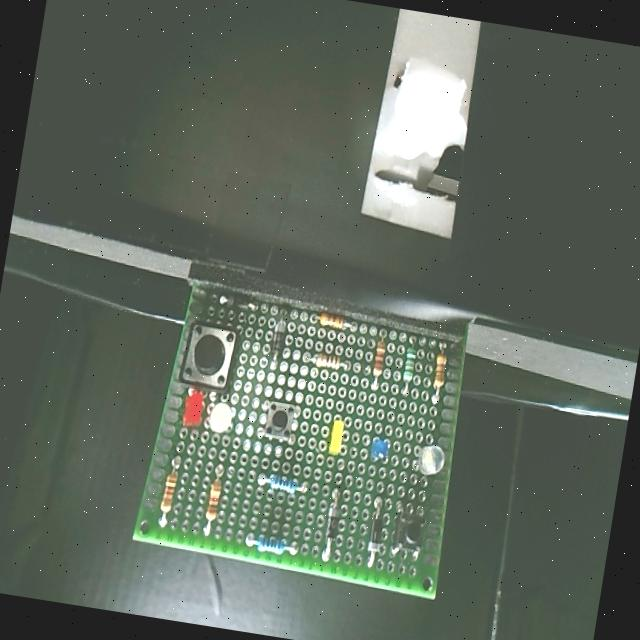diode: (315, 482, 349, 566), (360, 492, 390, 570), (263, 304, 292, 374), (216, 285, 264, 316)
led: (410, 438, 451, 482), (205, 394, 240, 436), (177, 386, 209, 430), (324, 411, 351, 461), (366, 433, 394, 466)
resistor: (154, 448, 186, 530), (200, 458, 229, 540), (425, 336, 456, 408), (242, 526, 304, 561), (396, 330, 424, 400), (364, 324, 392, 394), (253, 466, 312, 499), (308, 305, 361, 337), (300, 346, 350, 375)
switch: (177, 316, 244, 402), (386, 500, 430, 561), (255, 395, 305, 447)
